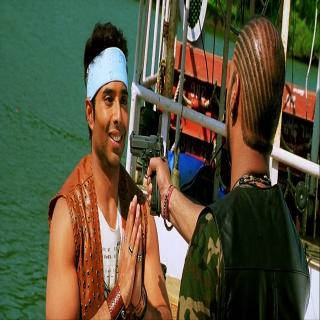gun: (127, 126, 168, 218)
